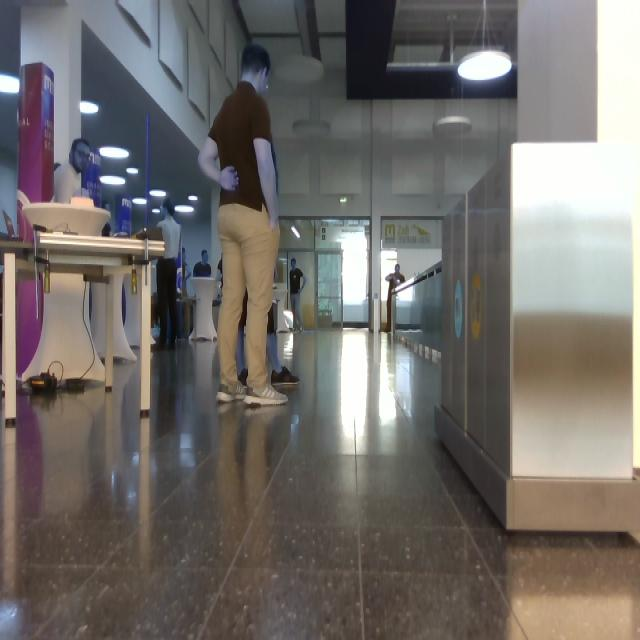light bulb: (434, 117, 472, 138), (99, 148, 129, 160), (292, 226, 301, 240), (133, 198, 146, 205), (127, 168, 138, 174), (189, 196, 198, 201)
person: (290, 258, 306, 330)
tiled floor: (1, 333, 640, 640)
